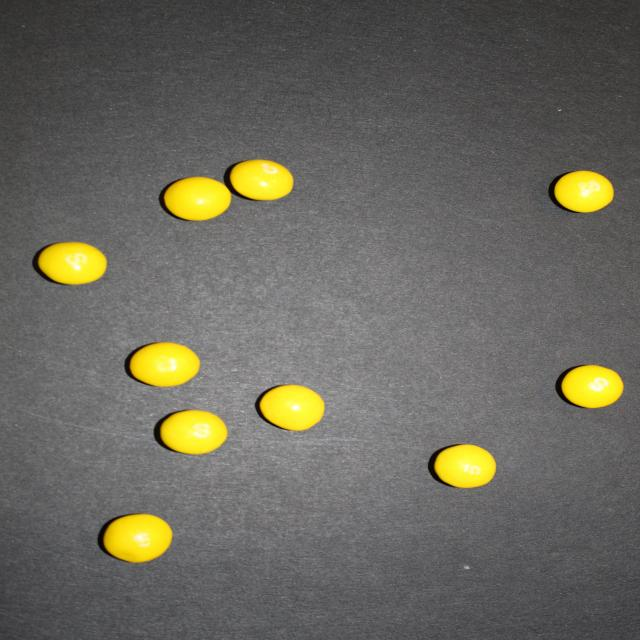smartie: (102, 515, 171, 564), (128, 343, 199, 387), (259, 385, 324, 431), (159, 411, 226, 455), (37, 242, 105, 285), (162, 177, 230, 220), (434, 445, 497, 489), (562, 365, 624, 409), (229, 159, 293, 200), (554, 170, 615, 212)
